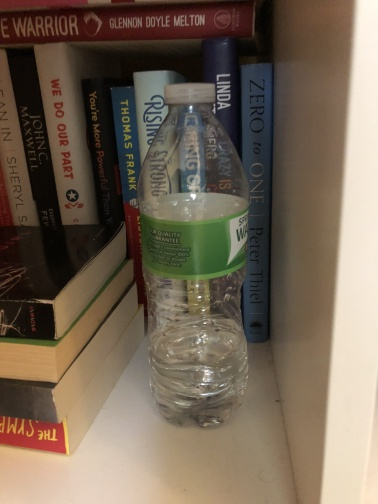bottle: (134, 80, 252, 432)
